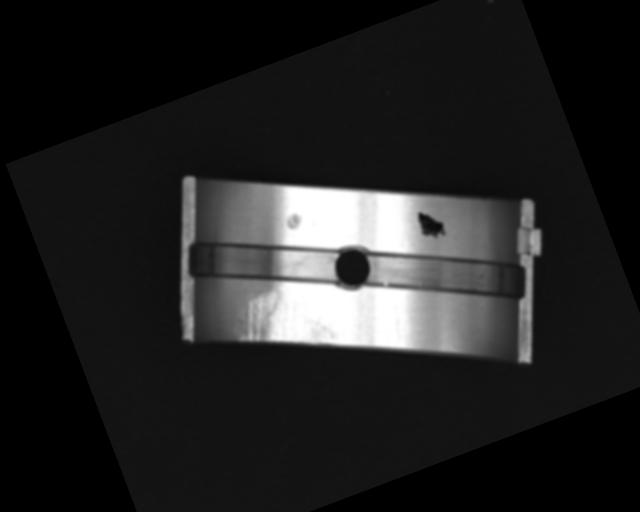blot: (413, 206, 449, 245)
bruise: (283, 211, 305, 234)
gap: (353, 205, 532, 345), (177, 197, 346, 330)
hole: (325, 238, 381, 297)
nick: (384, 303, 412, 345)
scratch: (224, 272, 341, 377)
